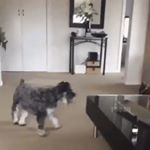puppy: (5, 77, 78, 139)
